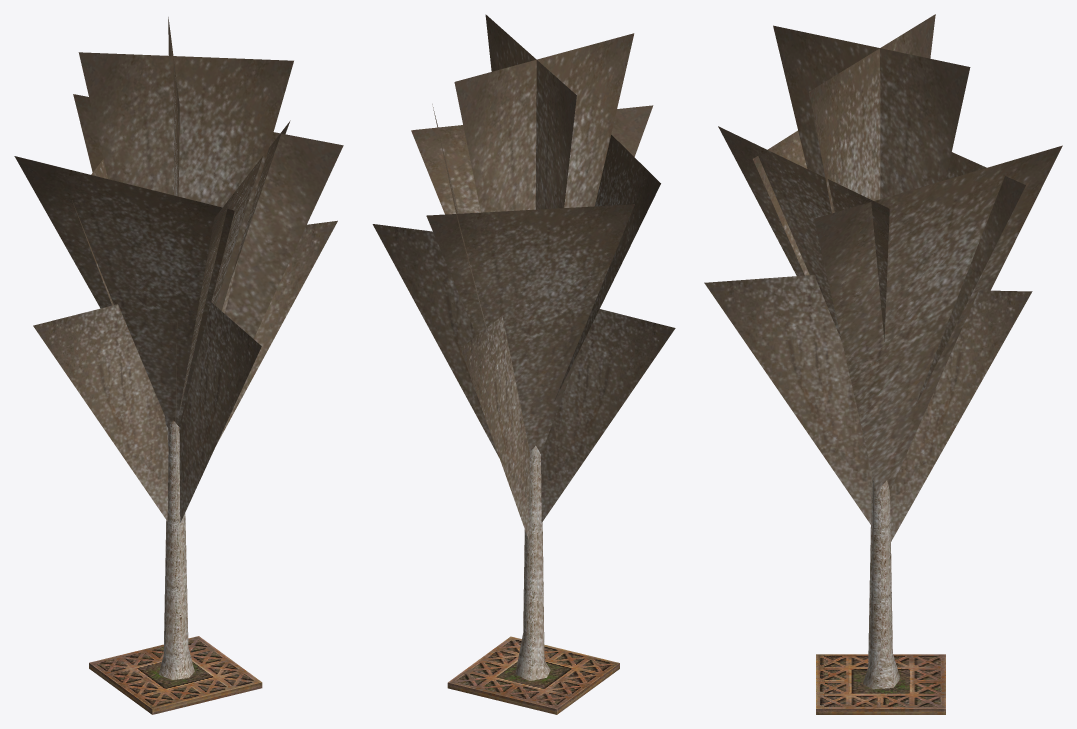
The model's file is tree3c_base.fbx.
3 renders of one model, left to right at view 1: azimuth 30°, elevation 25°; view 2: azimuth 150°, elevation 25°; view 3: azimuth 270°, elevation 25°, orthographic. The views are drawn at different scales.
Visible parts, largest first — view 1: mesh_2, mesh_0, mesh_1; view 2: mesh_2, mesh_0, mesh_1; view 3: mesh_2, mesh_0, mesh_1.
Part boxes in pixels (x1,y1,x2,y2): mesh_2: (14,17,343,522); mesh_0: (89,636,262,714); mesh_1: (159,420,194,679); mesh_2: (372,14,675,540); mesh_0: (447,636,619,714); mesh_1: (515,445,550,680); mesh_2: (704,14,1062,541); mesh_0: (816,654,945,714); mesh_1: (863,474,900,689).
Bounding box in the file's own units: 559 × 1084 × 552.
Materials: 3 (3 with a texture image).
